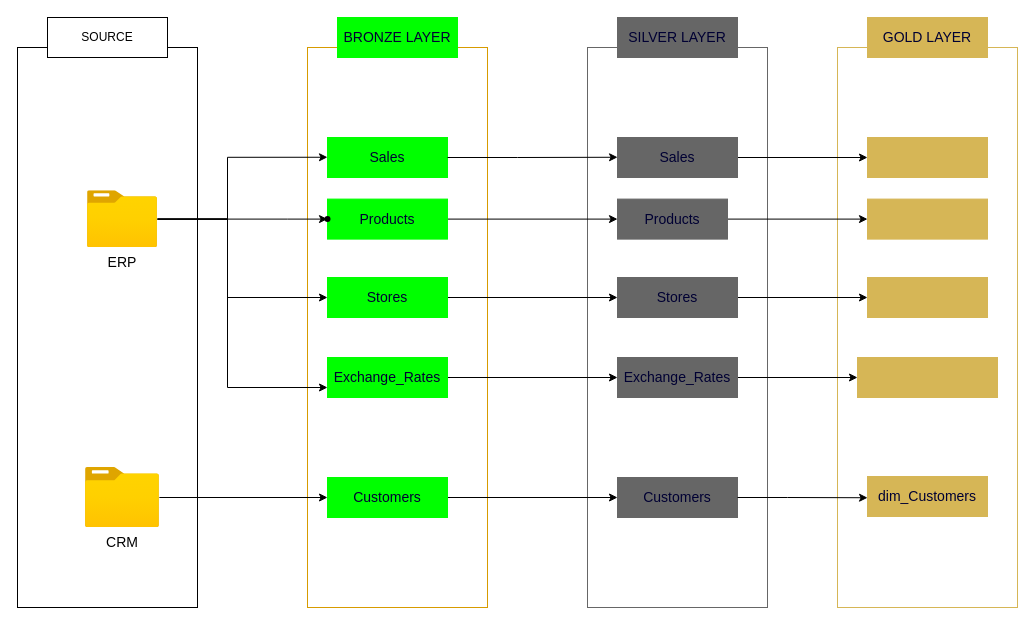
This 1035x625 diagram has some shape labels left out. Here are the shapes that lost their labels. From the top down, the box of each, then its label:
(866, 136, 988, 178): fact_Sales
(866, 198, 988, 239): dim_Products
(866, 276, 988, 318): dim_Stores
(856, 356, 998, 398): dim_Exchange_Rates
